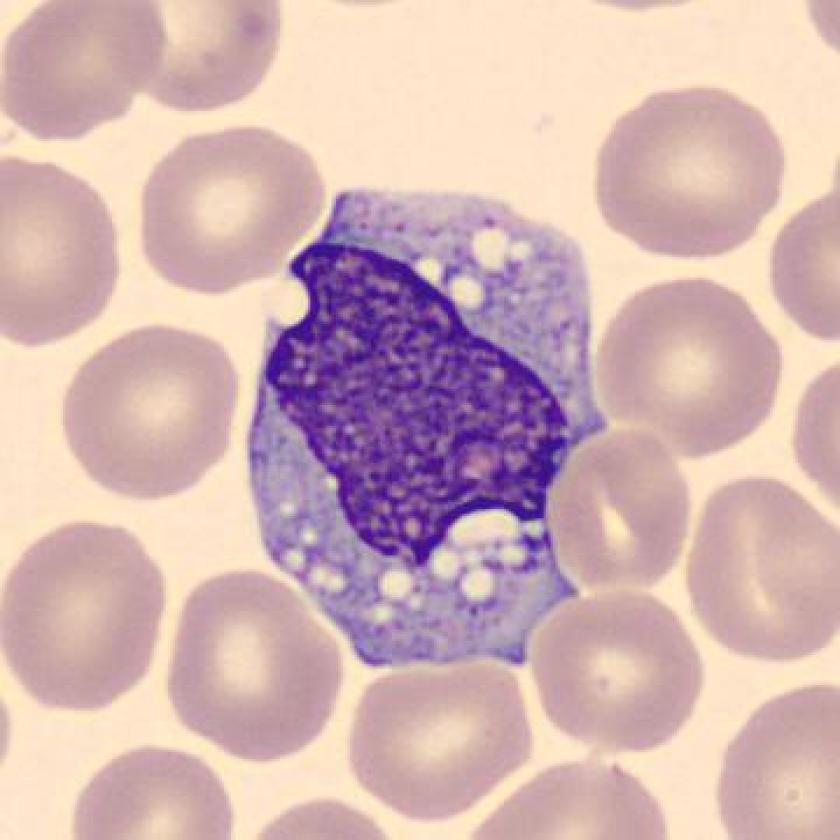monocyte: (228, 163, 627, 695)
